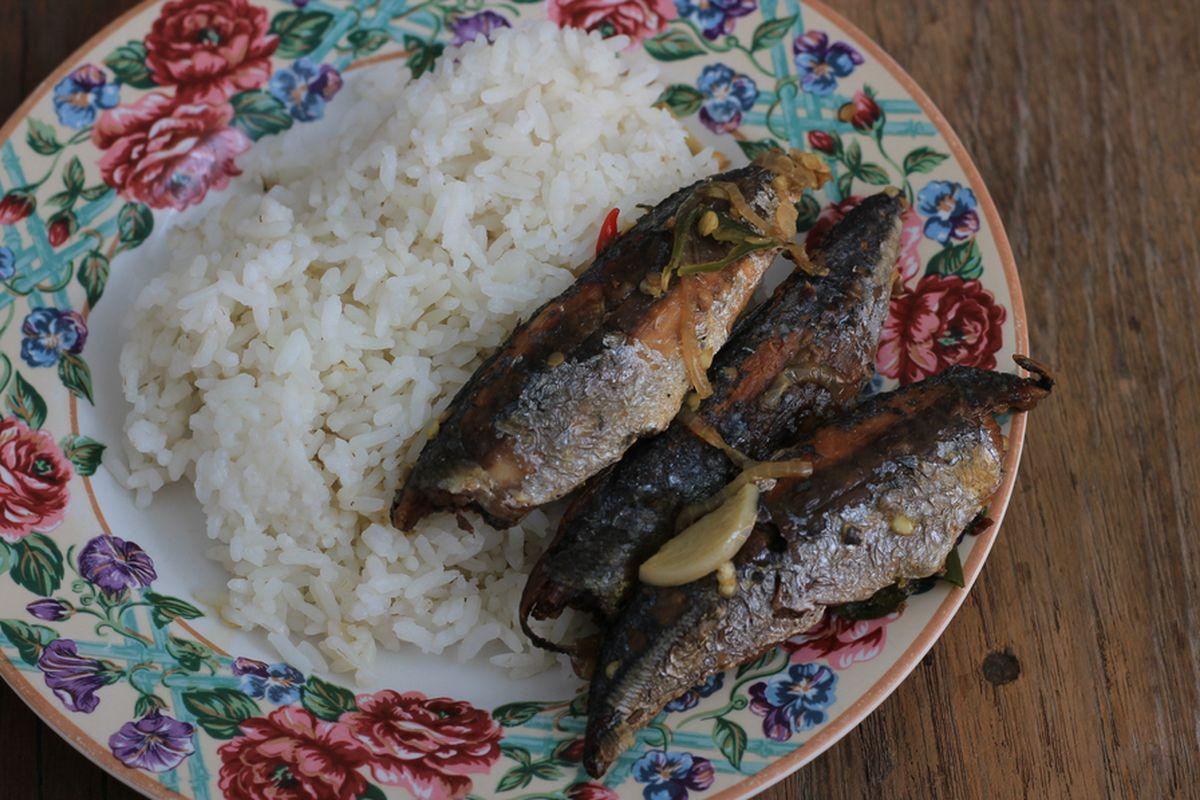daging: (581, 262, 905, 595)
makanan_berpati: (234, 227, 427, 444)
